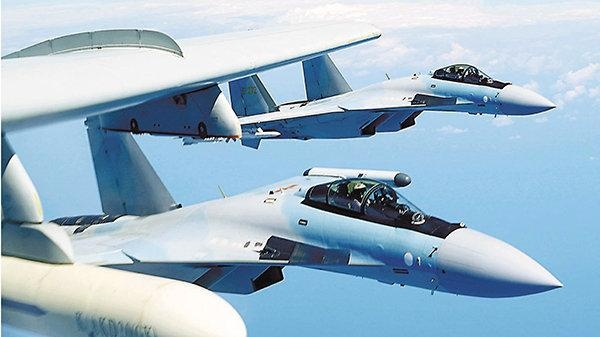airplane: (12, 103, 579, 298), (67, 21, 572, 138)
